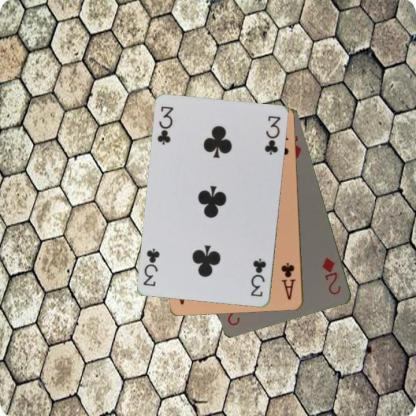2d: (320, 254, 342, 296)
3c: (155, 104, 175, 146), (249, 256, 268, 298)
Ac: (278, 260, 297, 301)
